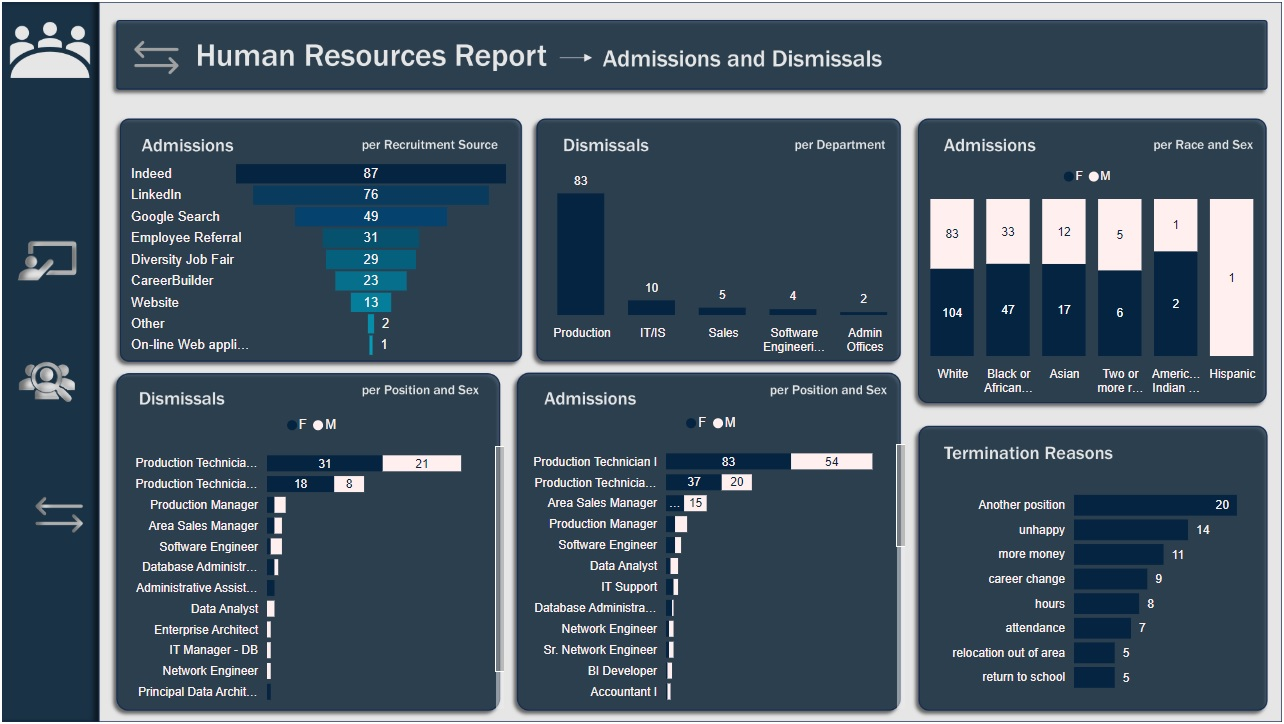

Layout of this report page (visuals, bound fields, positions):
{"tool":"powerbi","page":{"name":"Contratações e Desligamentos","canvas":[1280,720],"ordinal":2},"visuals":[{"type":"funnel","fields":{"Category":["dContratacoes.RecruitmentSource"],"Y":["Medidas.admissoes"]},"box":[123.8,154.8,389.9,205.1],"z":0},{"type":"barChart","fields":{"Category":["dDesligamentos.Position"],"Series":["dDesligamentos.Sex"],"Y":["Medidas.desligamentos"]},"box":[116.1,403.4,397.6,308.6],"z":1000},{"type":"columnChart","fields":{"Category":["dDesligamentos.Department"],"Y":["Medidas.desligamentos"]},"box":[513.7,154.8,402.5,205.1],"z":2000},{"type":"barChart","fields":{"Y":["Medidas.admissoes"],"Category":["dContratacoes.Position"],"Series":["dContratacoes.Sex"]},"box":[513.7,400.5,411.2,311.5],"z":3000},{"type":"barChart","fields":{"Category":["dDesligamentos.TermReason"],"Y":["Medidas.desligamentos"]},"box":[933.6,470.2,325.1,231.2],"z":4000},{"type":"hundredPercentStackedColumnChart","fields":{"Y":["Medidas.admissoes"],"Category":["dContratacoes.RaceDesc"],"Series":["dContratacoes.Sex"]},"box":[894,154.8,386,245.7],"z":5000},{"type":"image","box":[6.8,221.6,77.4,73.5],"z":6000},{"type":"image","box":[9.7,336.7,69.7,85.1],"z":7000}]}

Visuals, with their boxes in screenshot pixels (x1, y1, x2, y2), scaled from the page's 1280x720 canvas onto the 1284x724 screenshot:
funnel - dContratacoes.RecruitmentSource x Medidas.admissoes: left=124, top=156, right=515, bottom=362
barChart - dDesligamentos.Position x dDesligamentos.Sex: left=116, top=406, right=515, bottom=716
columnChart - dDesligamentos.Department x Medidas.desligamentos: left=515, top=156, right=919, bottom=362
barChart - Medidas.admissoes x dContratacoes.Position: left=515, top=403, right=928, bottom=716
barChart - dDesligamentos.TermReason x Medidas.desligamentos: left=937, top=473, right=1263, bottom=705
hundredPercentStackedColumnChart - Medidas.admissoes x dContratacoes.RaceDesc: left=897, top=156, right=1283, bottom=403
image: left=7, top=223, right=84, bottom=297
image: left=10, top=339, right=80, bottom=424
